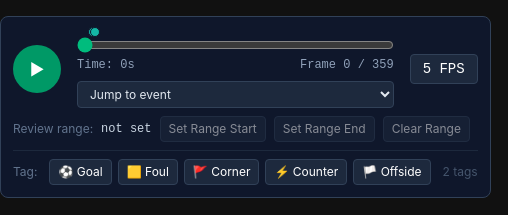
Test: seeks both densely spaced events by their distinct selector entries
Expected: the button named "Pass from #2 to #82 at 3.6 seconds" is shown, 88,27 -> 98,37
Expected: the button named "Pass from #3 to #2 at 4 seconds" is shown, 90,27 -> 100,37
Select "Pass from #2 to #82 @ 3.6s" in the dropdown named "Jump to event" at (235,94), box 77,81 -> 394,108
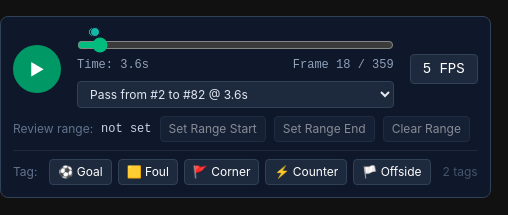
Expected: the slider named "Timeline scrubber" holds "18", 77,37 -> 394,53
Select "Pass from #3 to #2 @ 4s" in the dropdown named "Jump to event" at (235,94), box 77,81 -> 394,108
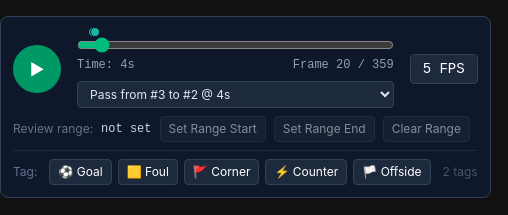
Expected: the slider named "Timeline scrubber" holds "20", 77,37 -> 394,53
